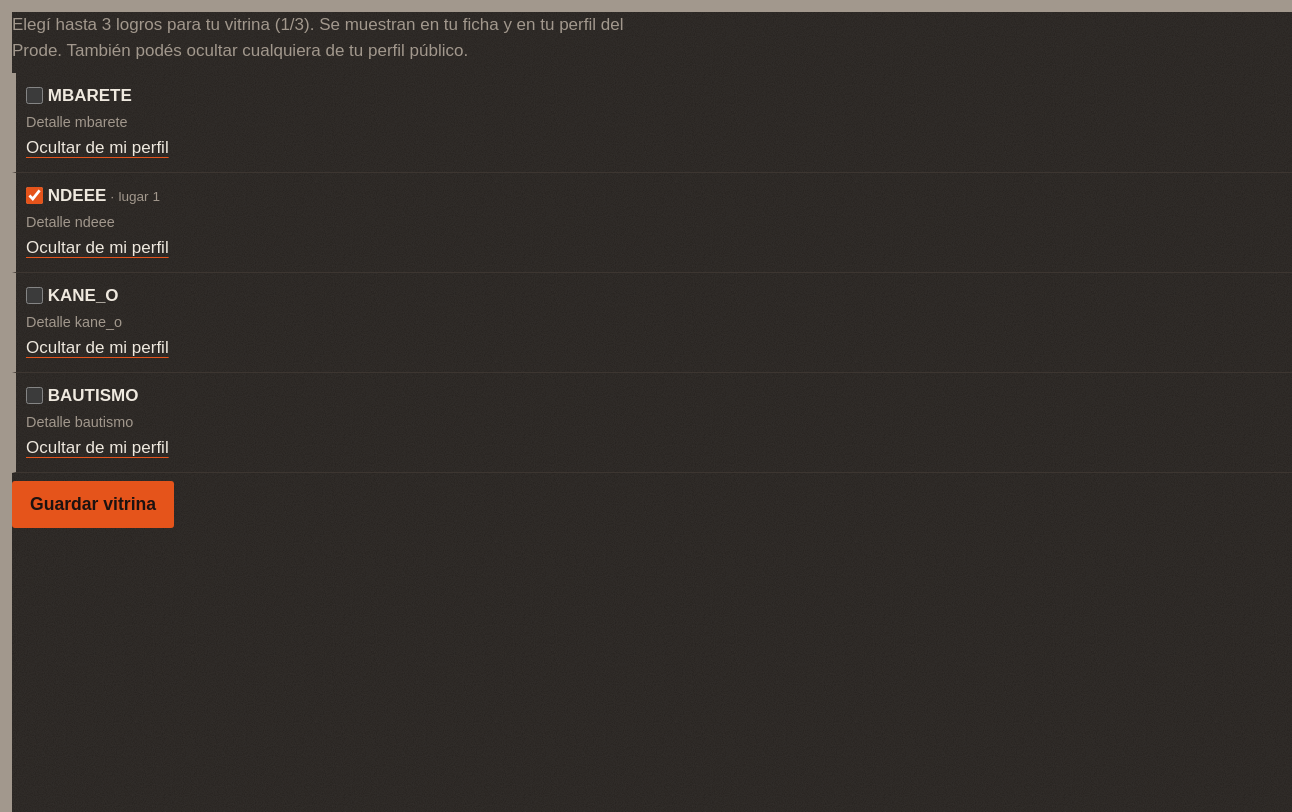
Test case: lets the owner pick three for the showcase and hide one
This screenshot has width=1292, height=812.
Expected: the checkbox labelled "NDEEE · lugar 1" is checked, [26,187,43,204]
Click the checkbox labelled "MBARETE". click: x=34, y=95
box: [26,87,43,104]
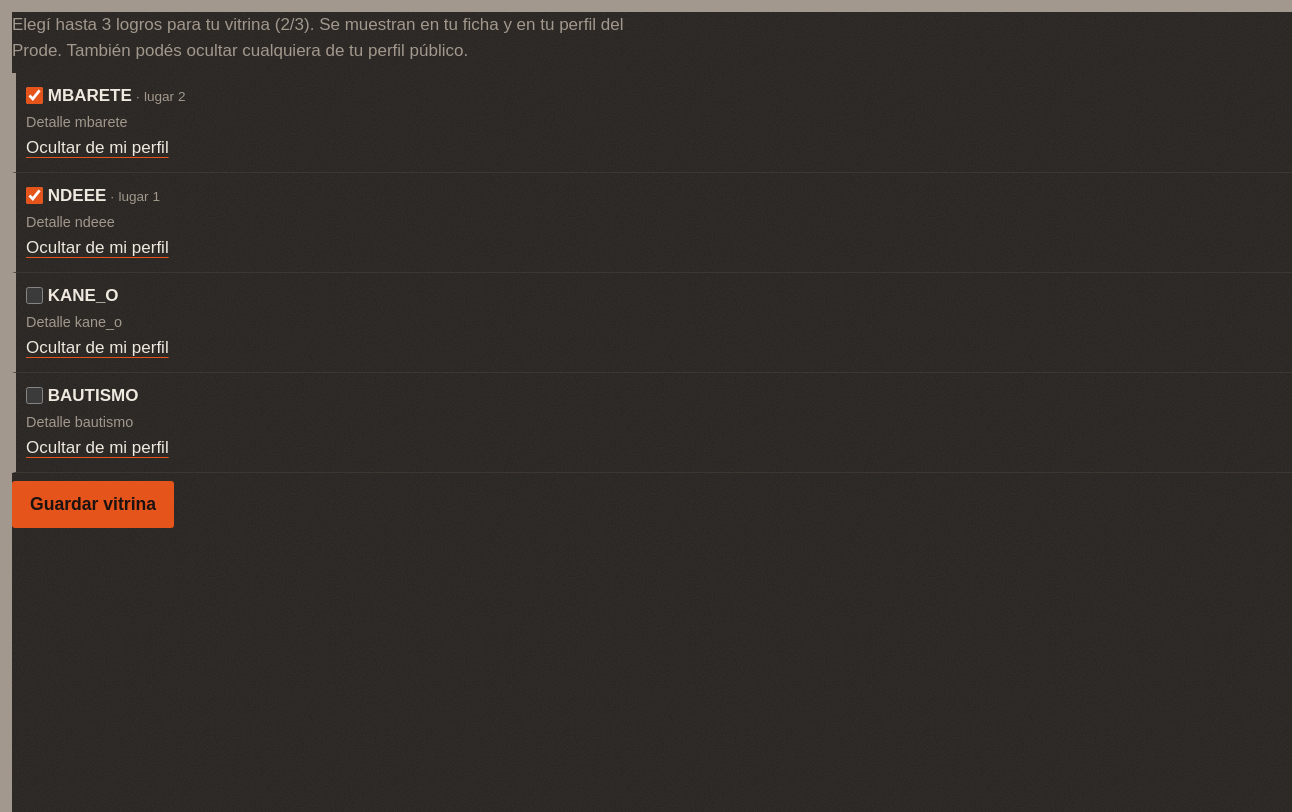
Click the checkbox labelled "KANE_O". click: x=34, y=295
box: [26,287,43,304]
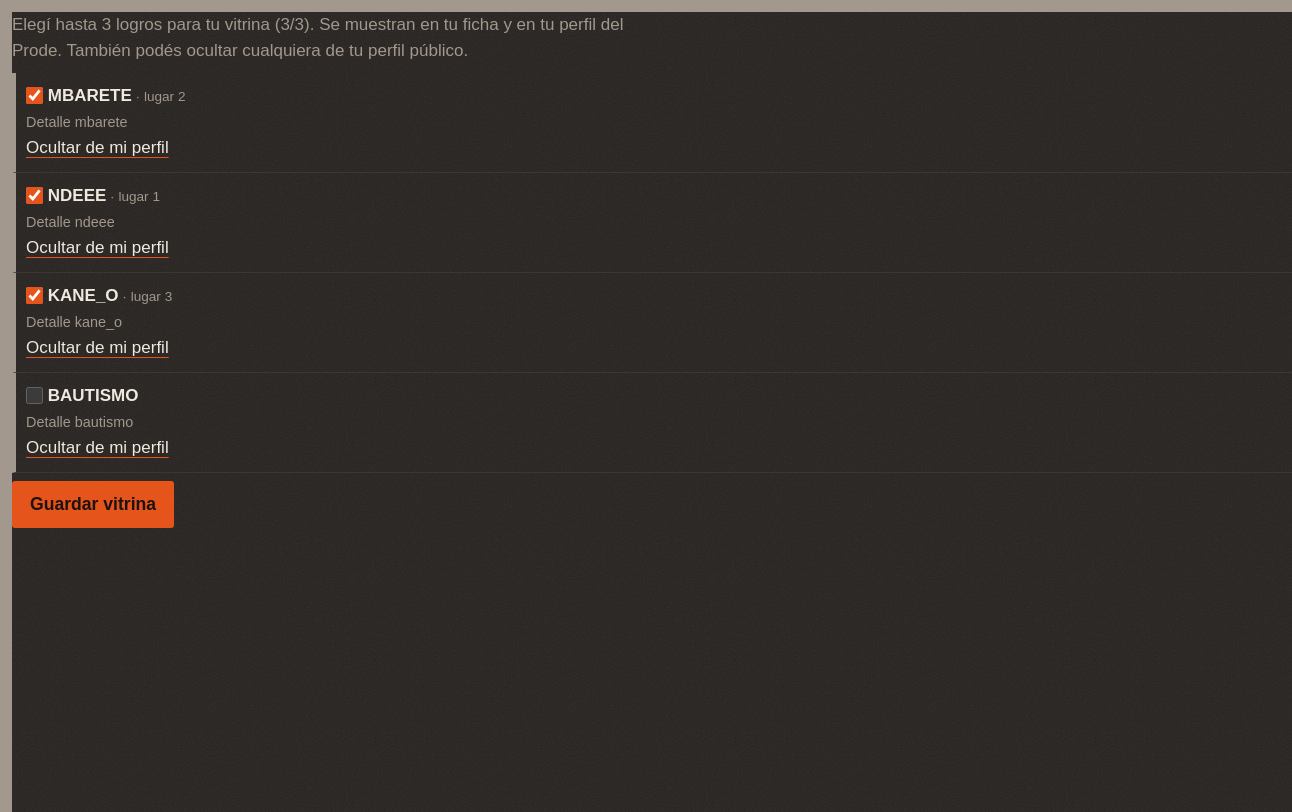
Now the checkbox labelled "BAUTISMO" is disabled, box [26,387,43,404]
Click the button "Guardar vitrina". click: x=93, y=504
box: [12,481,174,528]
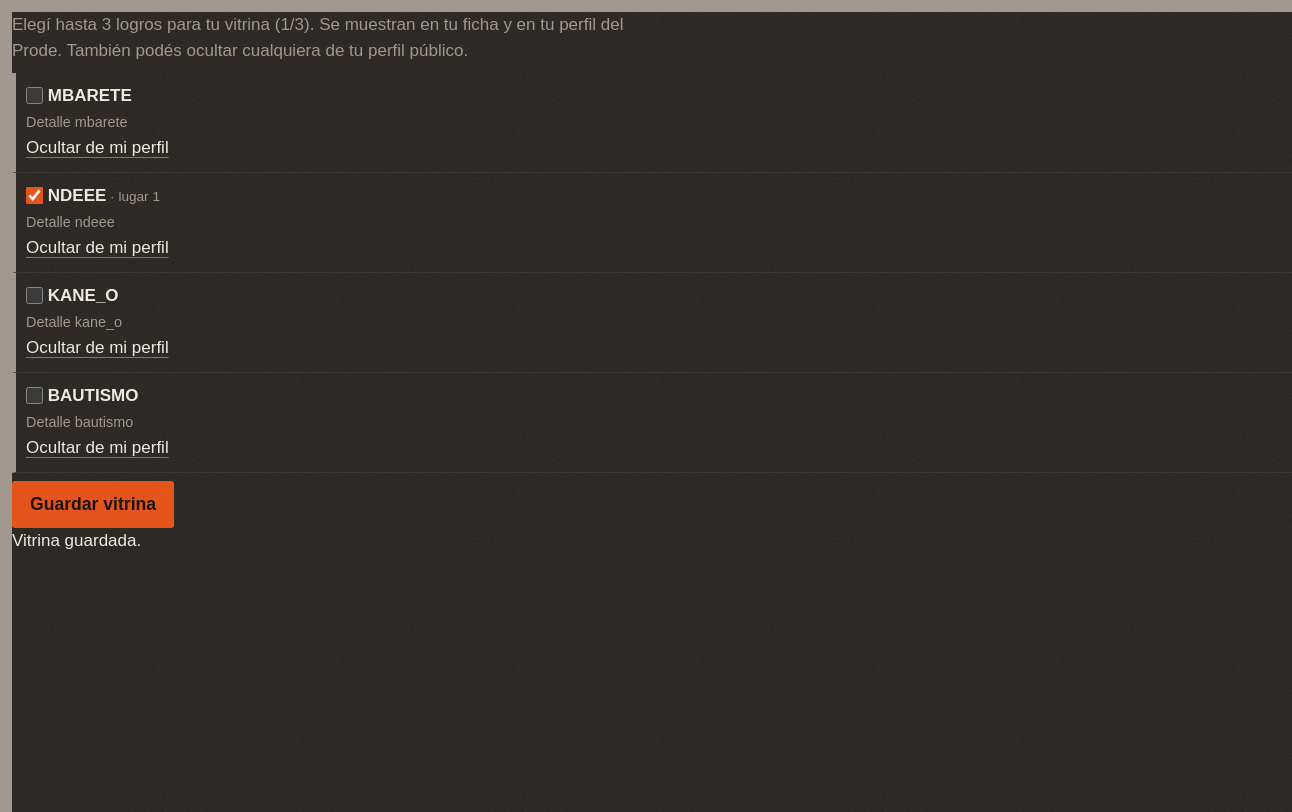
Now the text "Vitrina guardada." is shown, box [12,531,141,550]
Click the button "Ocultar de mi perfil" below "Detalle mbarete". click: x=97, y=149
box: [26,135,169,162]
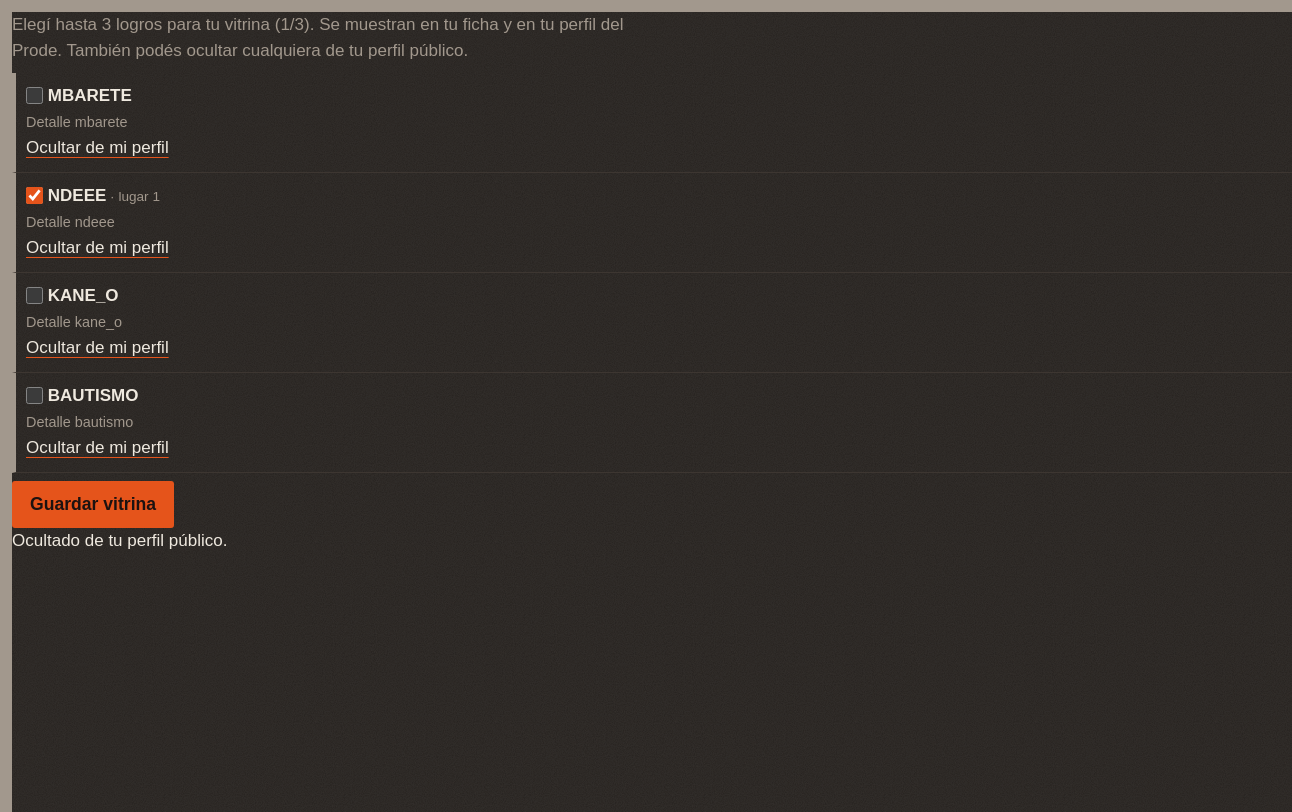
Now the text "Ocultado de tu perfil público." is shown, box [12,531,228,550]
